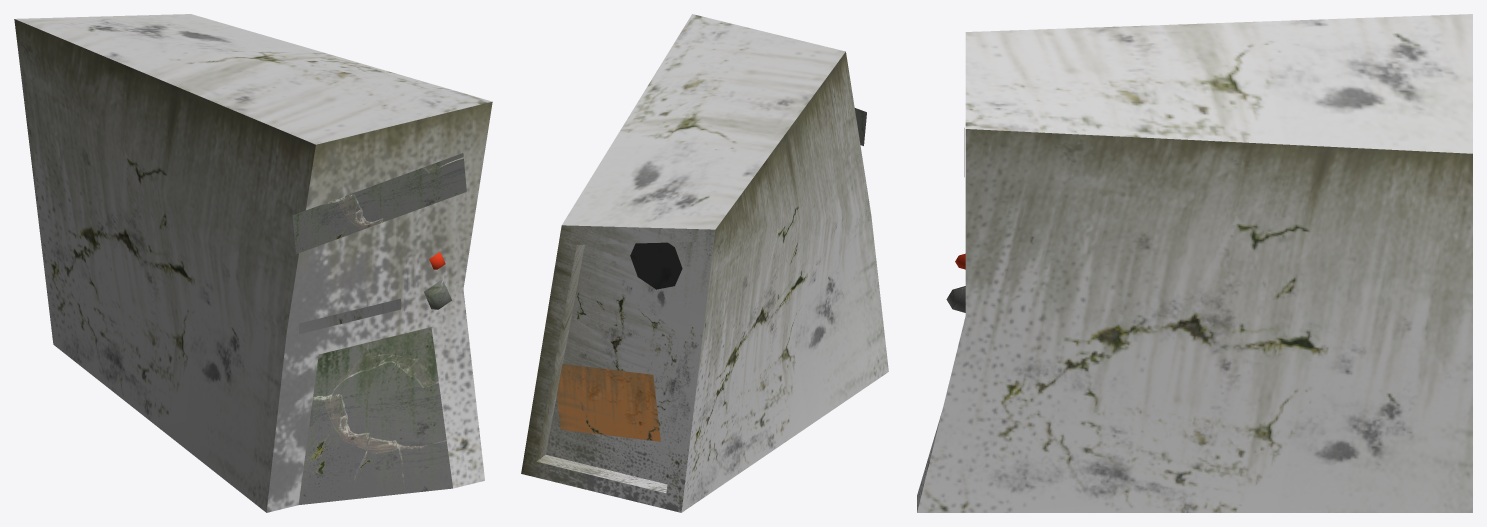
3 renders of one model, left to right at view 1: azimuth 30°, elevation 25°; view 2: azimuth 150°, elevation 25°; view 3: azimuth 270°, elevation 25°, orthographic. The views are drawn at different scales.
Parts seen in each view (by area): view 1: pc1; view 2: pc1; view 3: pc1.
Boxes of the visible parts, x1,y1,x2,y2 form: pc1: [14, 14, 492, 512]; pc1: [521, 14, 888, 512]; pc1: [917, 14, 1472, 512].
Size of the model in its own units: 0.2734 by 0.3684 by 0.4639.
